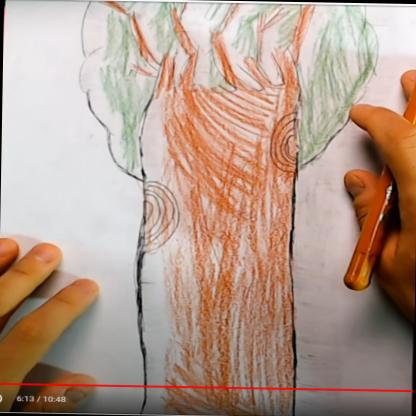crown_mushroom: (76, 1, 378, 178)
knot: (139, 181, 181, 252), (266, 113, 308, 175)
trunk_straight: (130, 182, 303, 371)
